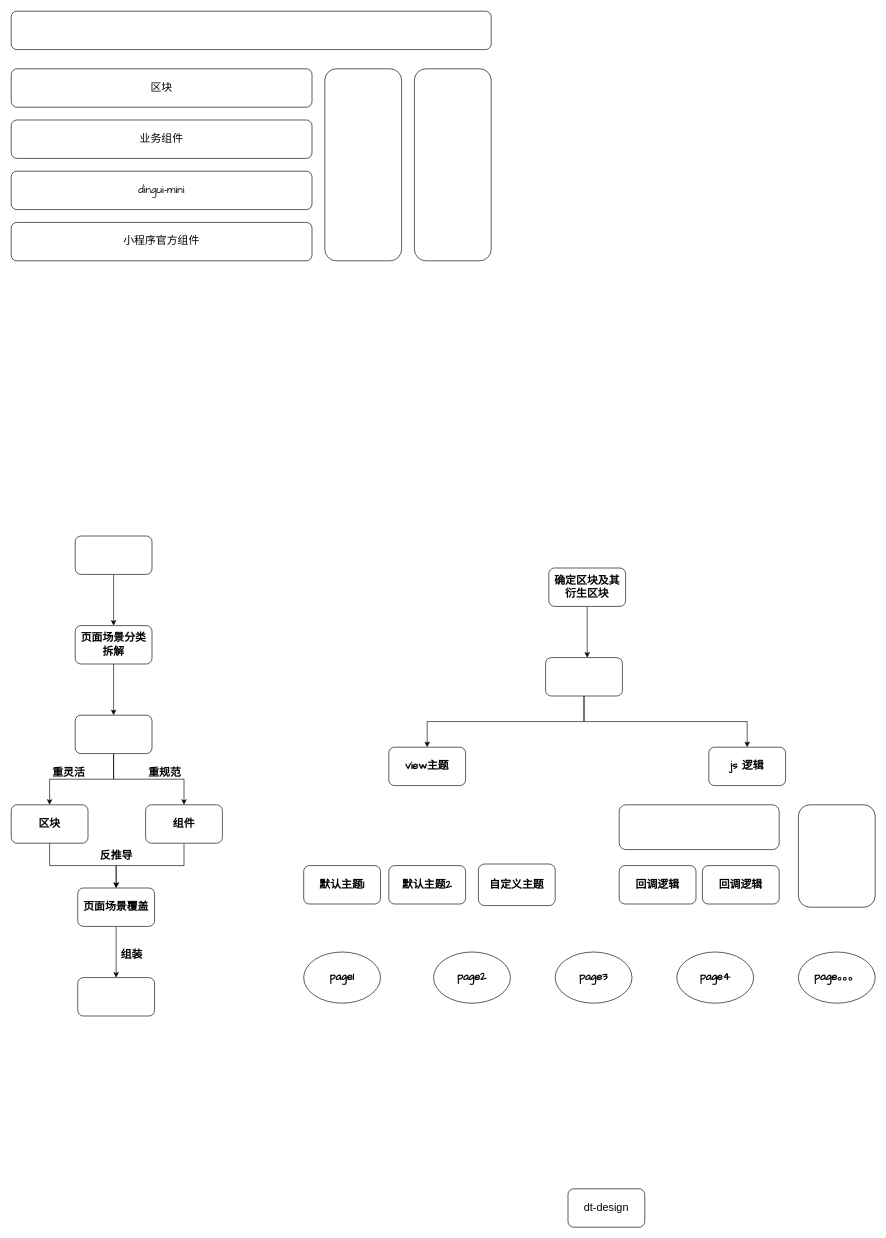
Some shapes in this 886 by 1238 pixel diagram are drawn without their labels. The shapes that lost their labels are listed below. From the top down, each one's centre as x and y in pixels, then its label:
At point 251,30: "业务方".
At point 363,164: "工具".
At point 452,164: "平台".
At point 113,554: "app抽样".
At point 583,676: "确定schema配置".
At point 113,734: "UI元素相似度归纳".
At point 699,827: "默认逻辑".
At point 836,855: "自定义逻辑".
At point 116,996: "app业务".
